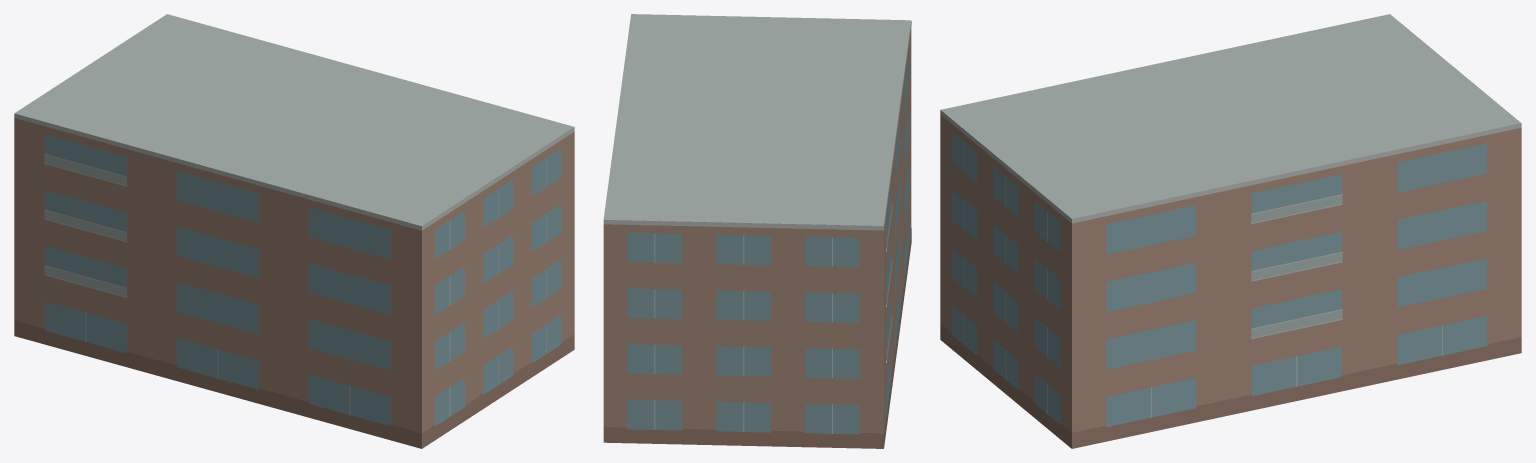
Rendered from survey-upis-32836418.glb.
3 renders of one model, left to right at view 1: azimuth 30°, elevation 25°; view 2: azimuth 150°, elevation 25°; view 3: azimuth 270°, elevation 25°, orthographic. The views are drawn at different scales.
Parts seen in each view (by area): view 1: survey-upis-32836418.tmp; view 2: survey-upis-32836418.tmp; view 3: survey-upis-32836418.tmp.
Part boxes in pixels (x1=…): survey-upis-32836418.tmp: x1=14, y1=14, x2=574, y2=448; survey-upis-32836418.tmp: x1=603, y1=14, x2=911, y2=448; survey-upis-32836418.tmp: x1=940, y1=14, x2=1521, y2=448.
Size of the model in its own units: 23.32 by 12.2 by 27.94.
